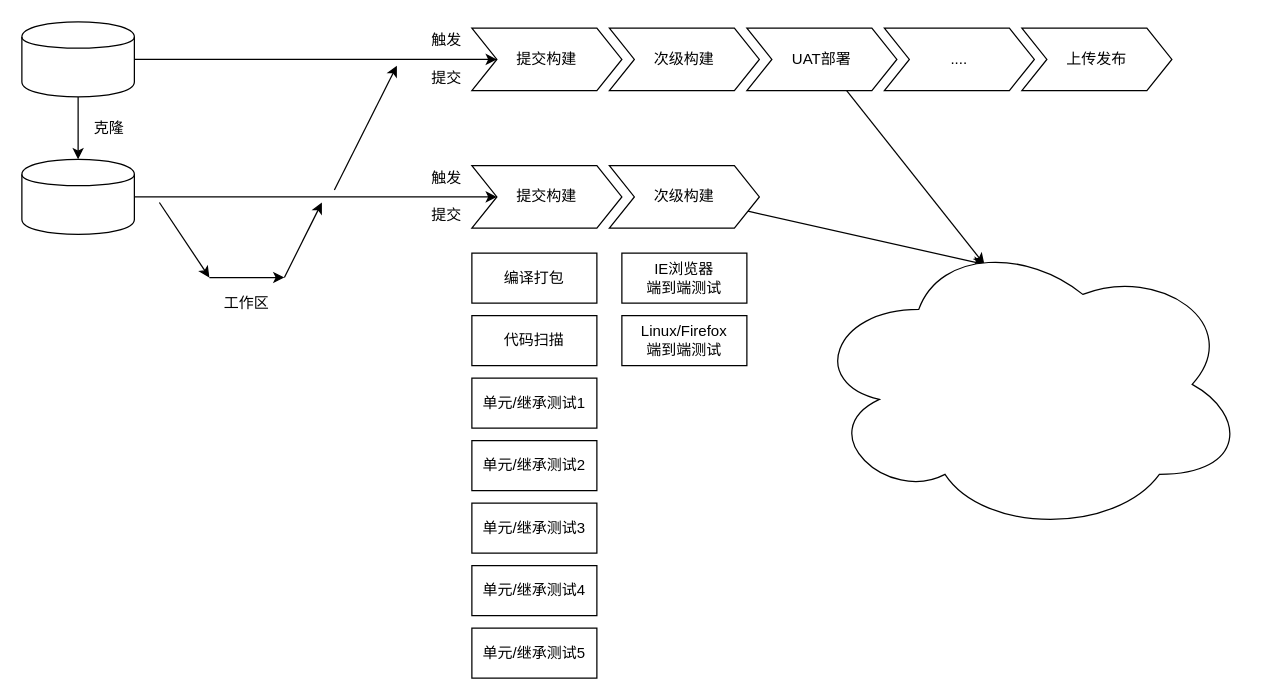
Some shapes in this 1269 by 700 pixel diagram are drawn without their labels. The shapes that lost their labels are listed below. From the top down, each one's centre as x and y in pixels, then its label:
At point (77, 59): "团队仓库".
At point (77, 196): "个人仓库".
At point (1027, 383): "共享构建和测试环境".
